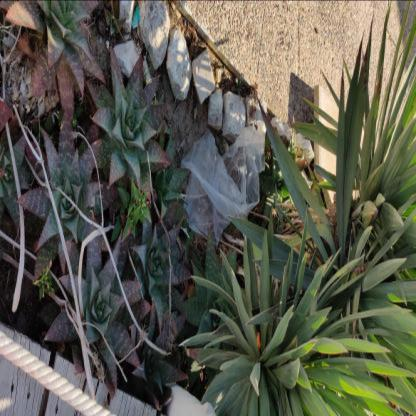Plastic bag - wrapper: (180, 121, 265, 246), (143, 58, 152, 85), (132, 5, 140, 29)
